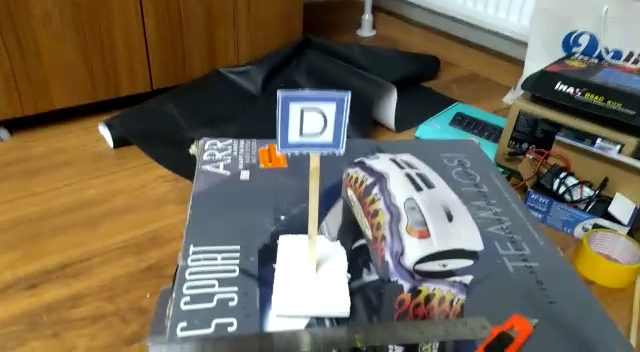durak: (279, 89, 346, 148)
